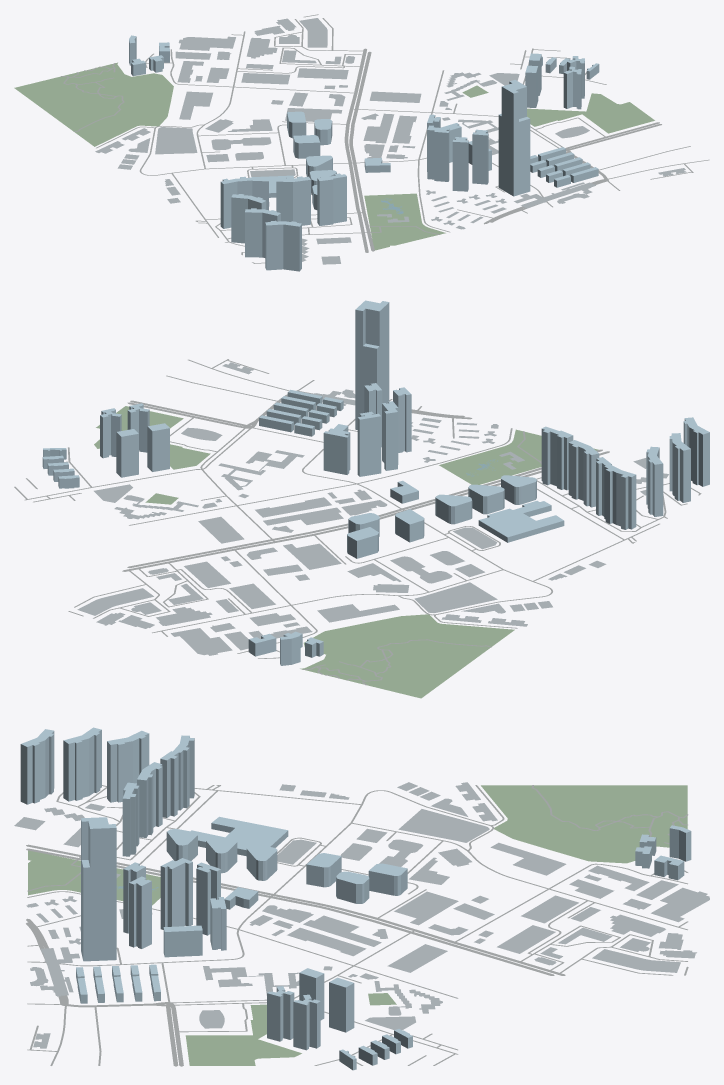
File: -12_-5-known-coarse.glb
3 views of the same model, one above another, from view 1: azimuth 30°, elevation 25°; view 2: azimuth 150°, elevation 25°; view 3: azimuth 270°, elevation 25° (orthographic). The views are drawn at different scales.
Bounding box in the file's own units: 1028 × 220 × 1049.
